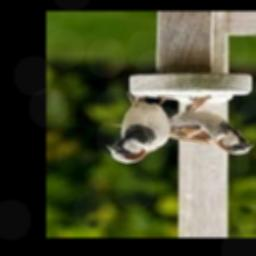Sparrow: (114, 96, 255, 155), (106, 96, 174, 164)
